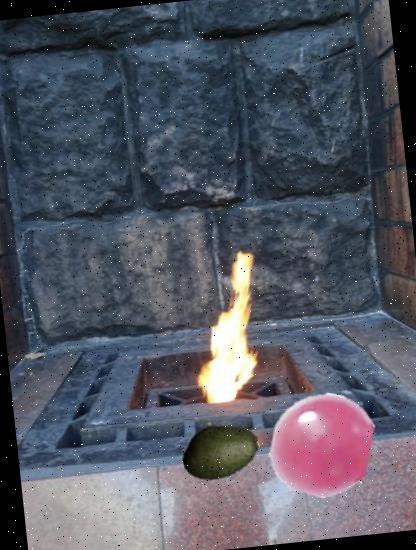Avocado: (176, 406, 264, 492)
Redcurrant: (264, 387, 378, 502)
